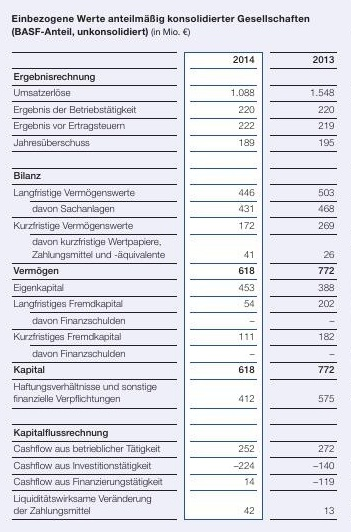table: (0, 0, 351, 532)
